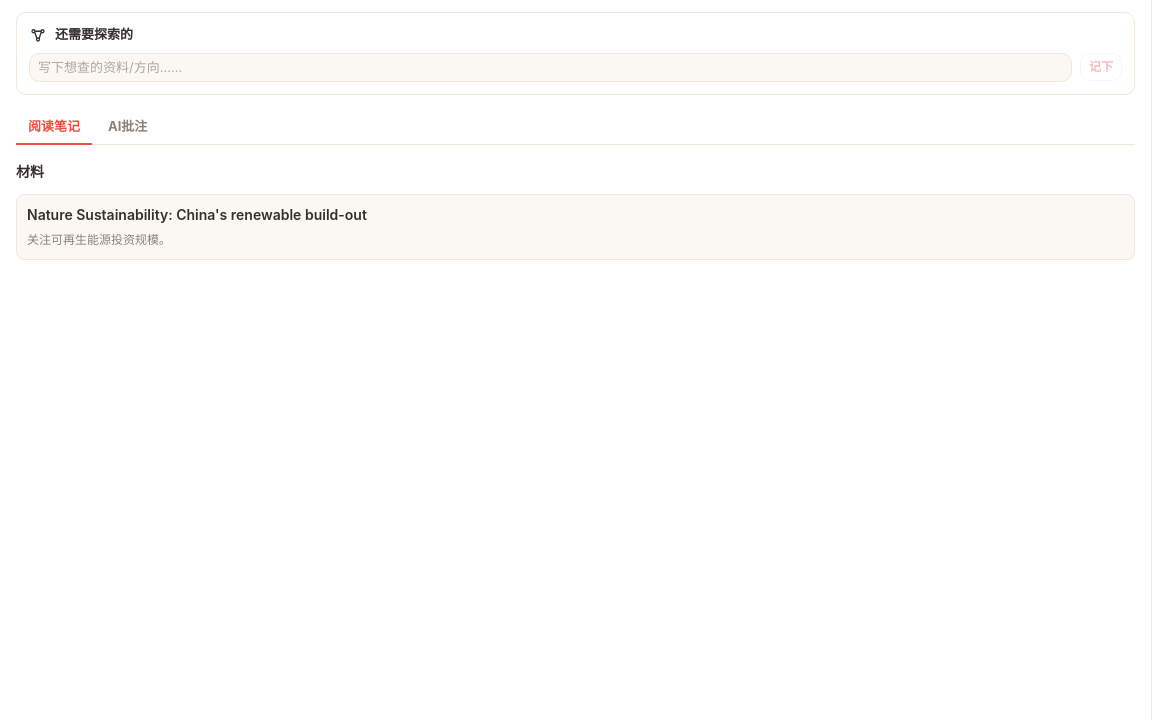
it: ReferencePanel › shows the calm 批注 line rather than faking annotations, once other content is present
Click the button "AI批注" at (128, 128), box [96,111,159,144]
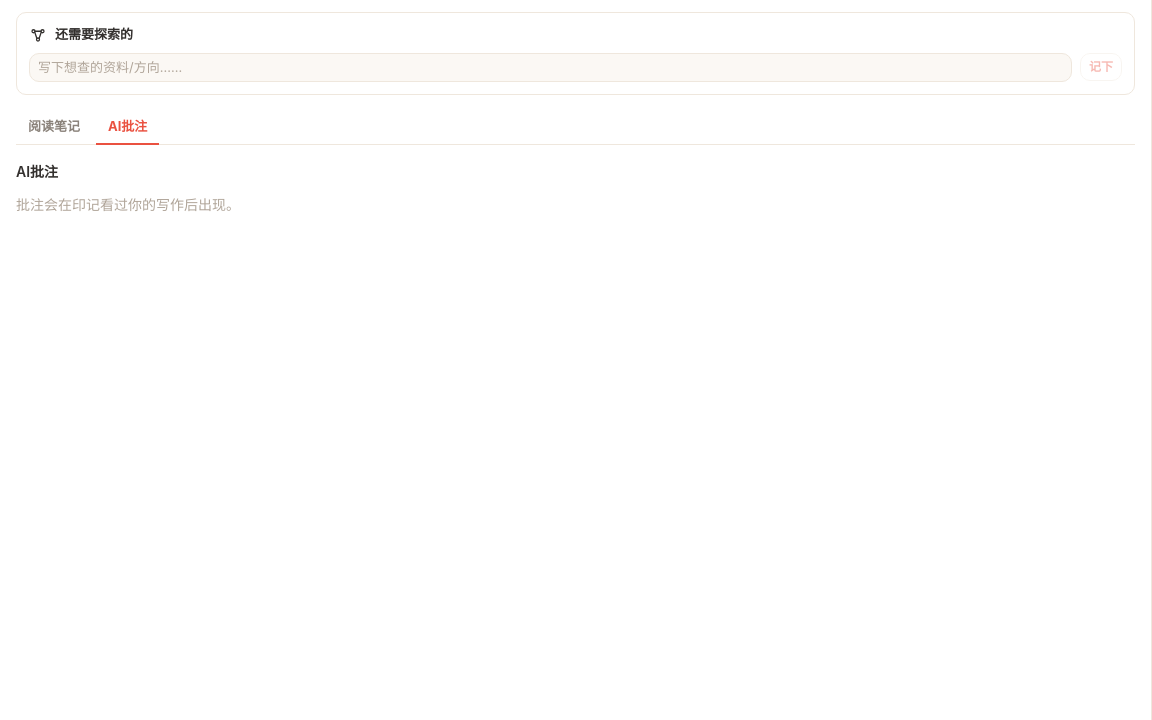
Check: the text "批注会在印记看过你的写作后出现。" is shown, box [16,196,240,212]
